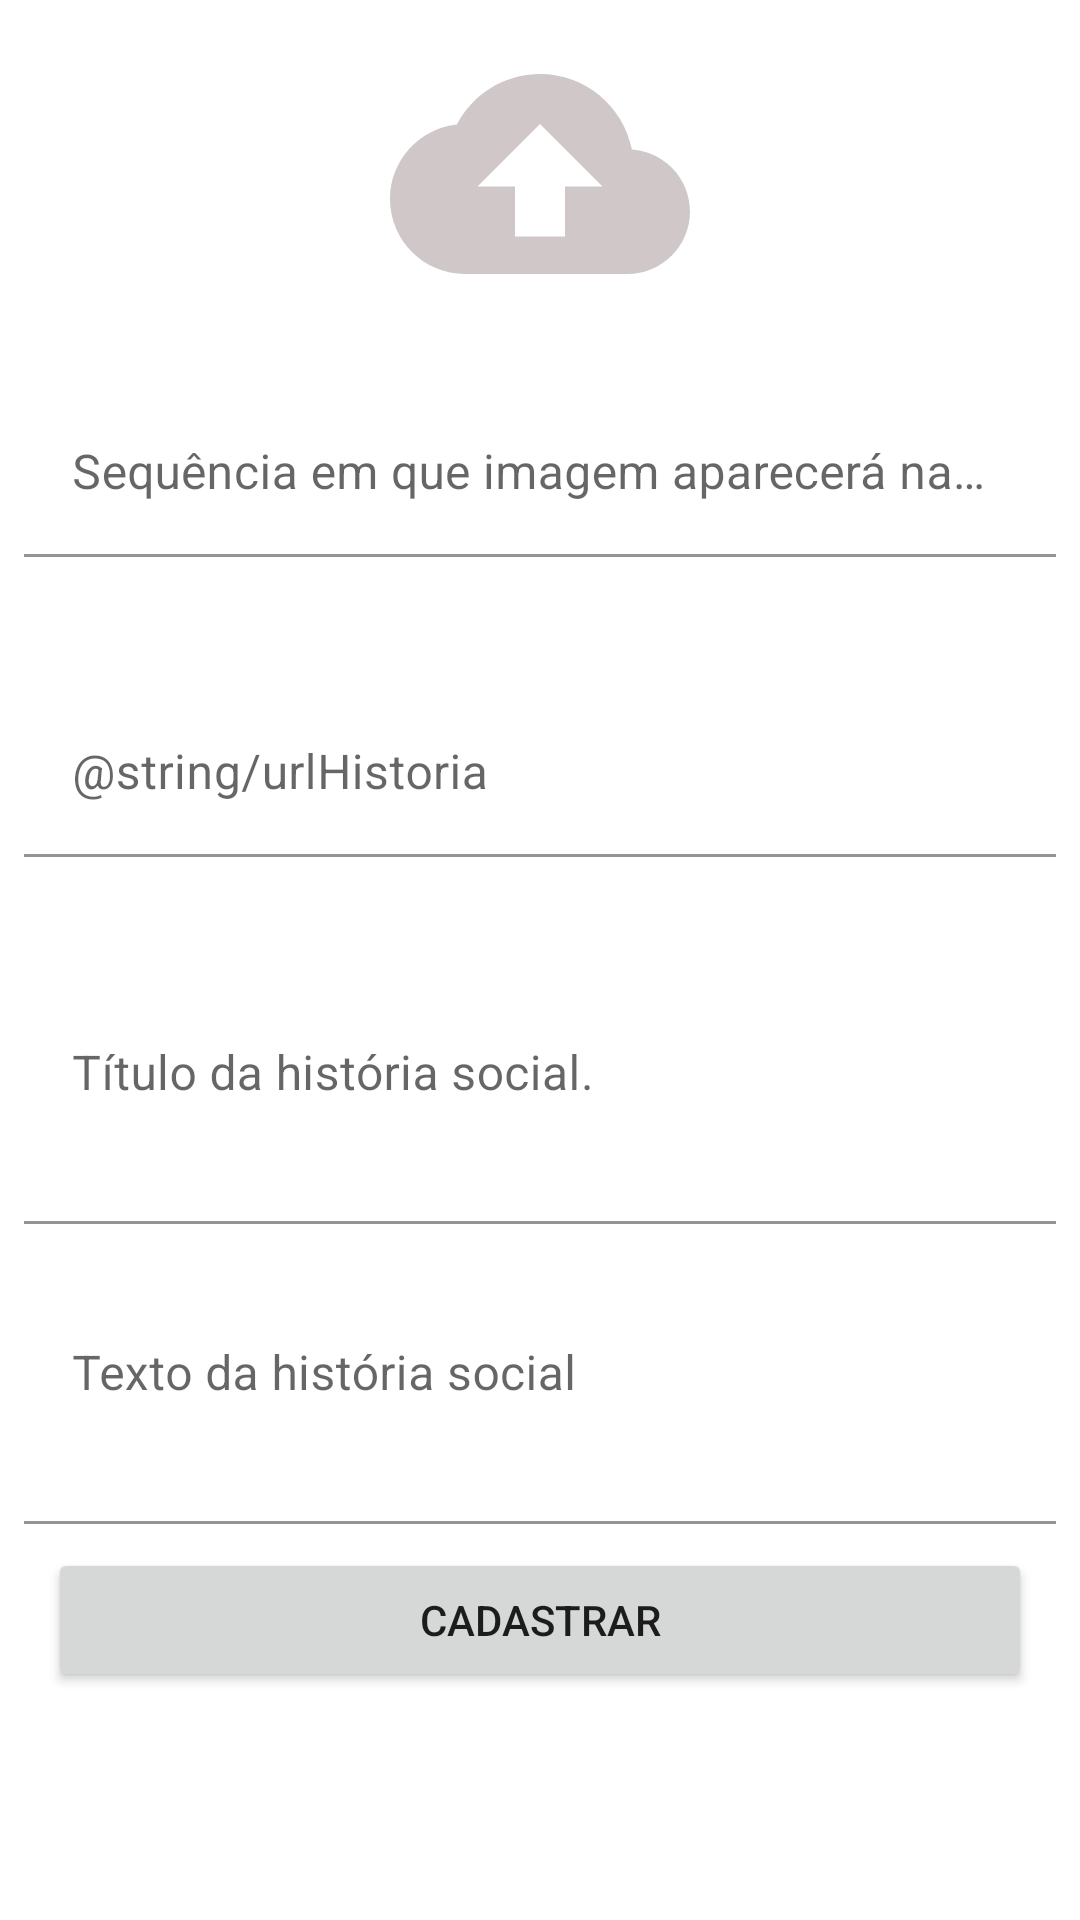

Icons on this 1080 x 1920 Android screen, each with the point to tap as (x,y):
cloud upload: (540,174)
